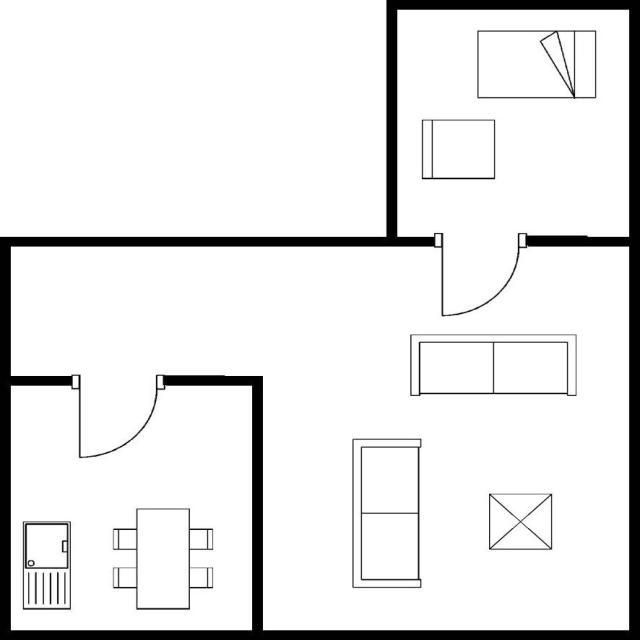bed: (471, 26, 600, 102)
coffee_table: (484, 490, 557, 554)
dining_table: (110, 504, 217, 614)
large_sofa: (348, 435, 426, 591), (406, 330, 580, 399)
sink: (18, 518, 75, 614)
small_sofa: (416, 116, 498, 181)
